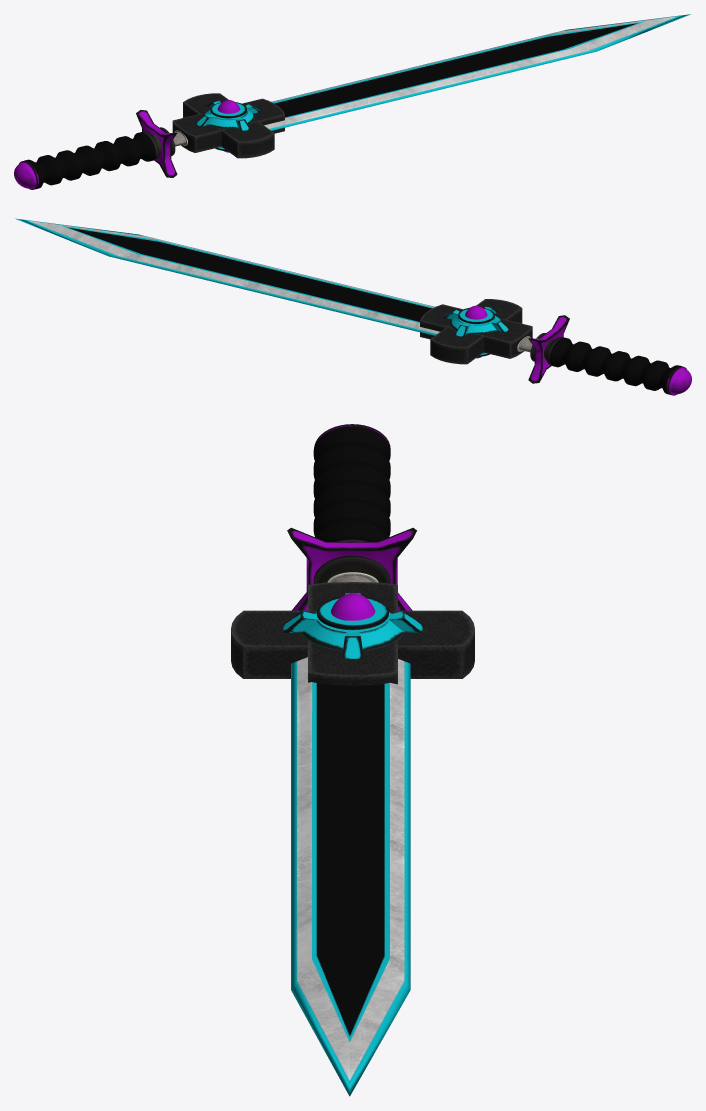
Rendered from Sword!_1.Obj.
The picture shows the model from 3 angles, top to bottom: view 1: azimuth 30°, elevation 25°; view 2: azimuth 150°, elevation 25°; view 3: azimuth 270°, elevation 25°; orthographic projection. The views are drawn at different scales.
Parts seen in each view (by area): view 1: CrossGuard1; view 2: CrossGuard1; view 3: CrossGuard1.
Part boxes in pixels (x1,y1,x2,y2): CrossGuard1: (14, 14, 691, 189); CrossGuard1: (15, 218, 691, 395); CrossGuard1: (231, 424, 474, 1096).
Bounding box in the file's own units: 697 × 50.18 × 109.
